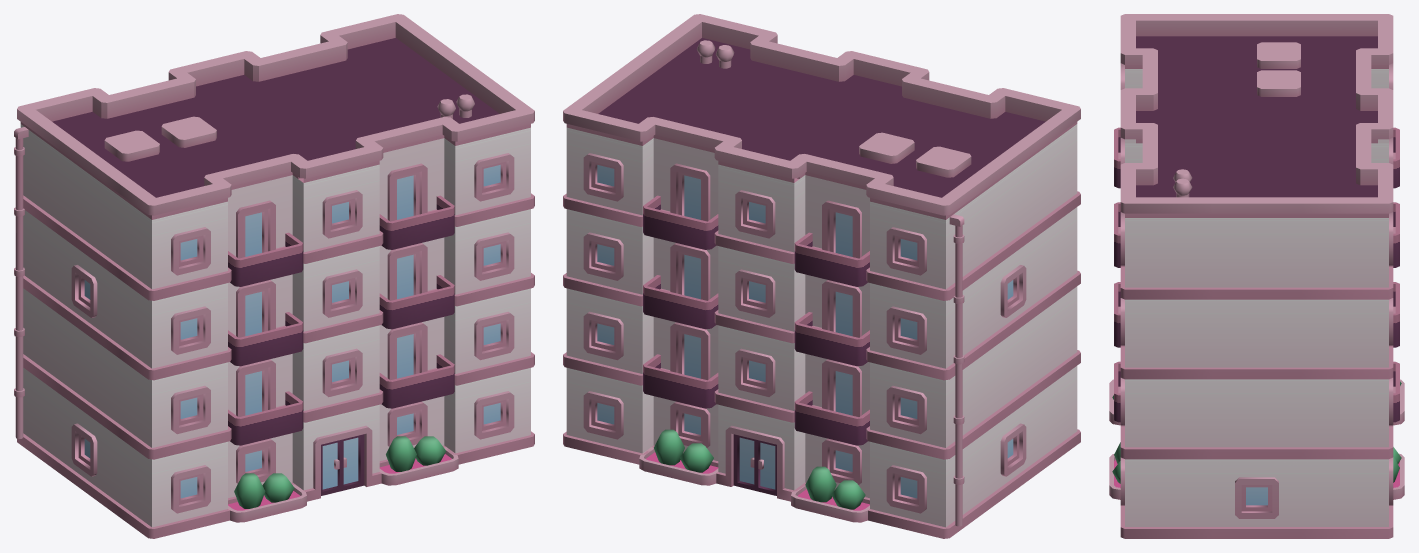
File: apartment_4story_balconies.obj
The picture shows the model from 3 angles, left to right: view 1: azimuth 30°, elevation 25°; view 2: azimuth 150°, elevation 25°; view 3: azimuth 270°, elevation 25°; orthographic projection.
Parts seen in each view (by area): view 1: building-j; view 2: building-j; view 3: building-j.
Boxes of the visible parts, bbox=[...] form: building-j: bbox=[14, 14, 534, 538]; building-j: bbox=[563, 14, 1080, 538]; building-j: bbox=[1109, 14, 1404, 538].
Bounding box in the file's own units: 41.67 × 33.86 × 26.8.
1 material, 1 textured.
